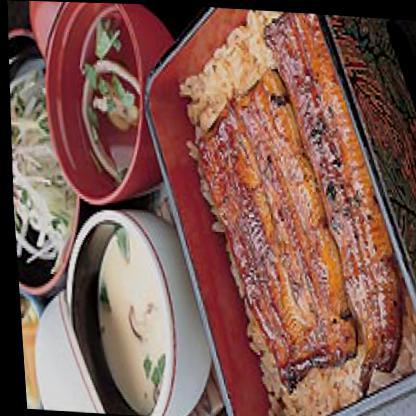eel: (189, 6, 415, 407)
